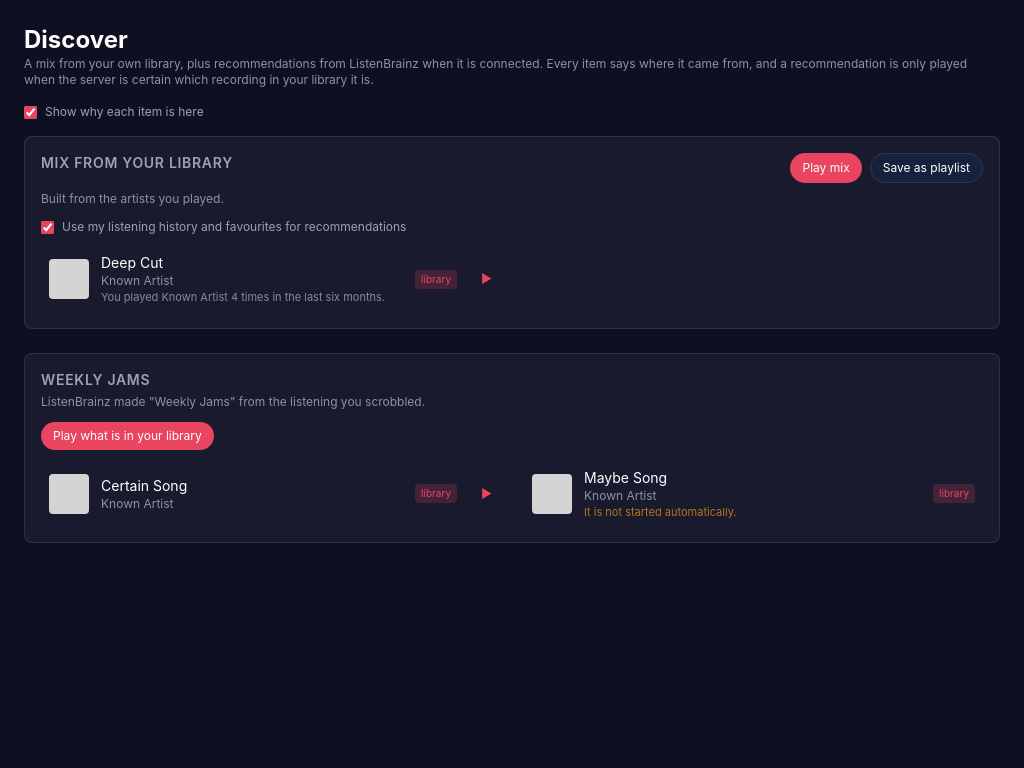
Test: Discover page › hides the reasons when asked, and remembers that (R08.3)
The image size is (1024, 768).
Expected: the text "Deep Cut" is shown, [101,254,163,271]
Expected: the text "You played Known Artist 4 times in the last six months." is shown, [101,289,403,306]
Step 1. Click the checkbox labelled "Show why each item is here" → (30, 112), box [24,106,37,118]
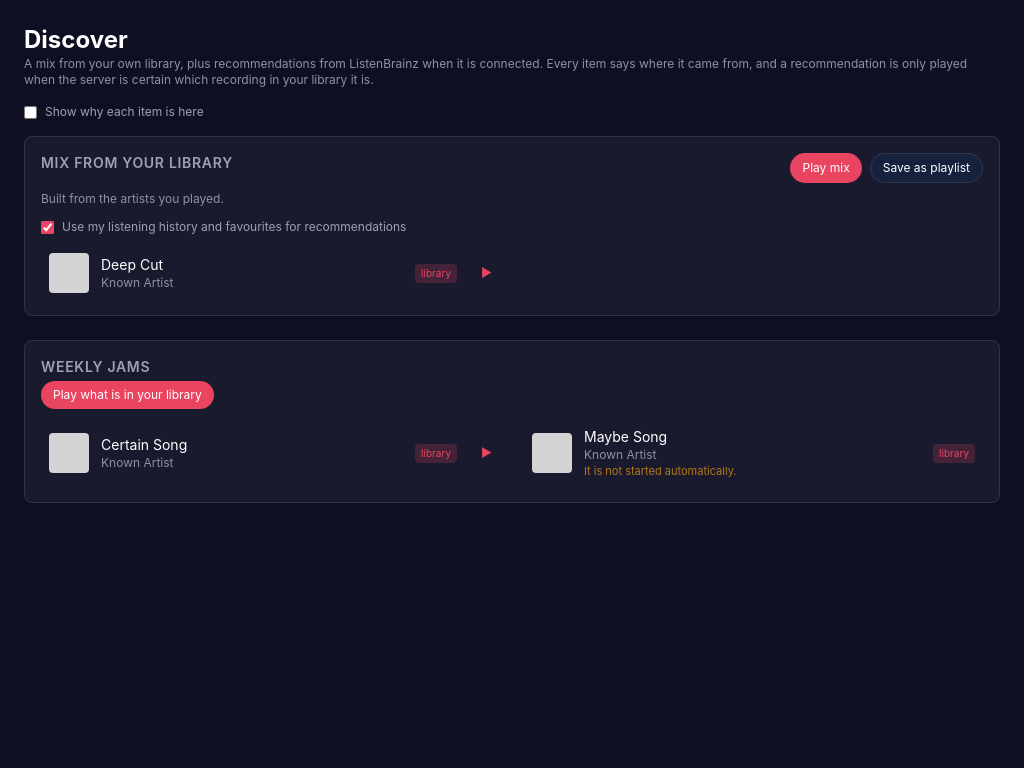
Result: the checkbox labelled "Show why each item is here" is not checked at [24,106,37,118]
Result: the text "played Known Artist 4 times" is gone
